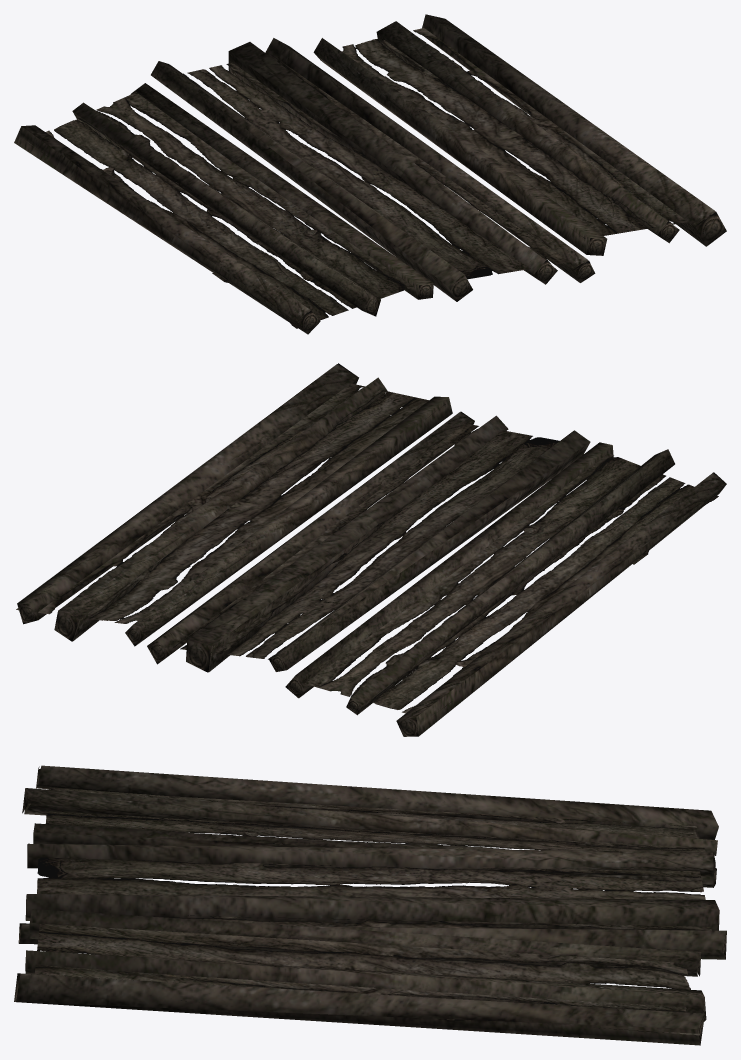
File: MEP_Wall_04.fbx
3 renders of one model, top to bottom at view 1: azimuth 30°, elevation 25°; view 2: azimuth 150°, elevation 25°; view 3: azimuth 270°, elevation 25°, orthographic. The views are drawn at different scales.
Parts seen in each view (by area): view 1: MEP_Wall_04; view 2: MEP_Wall_04; view 3: MEP_Wall_04.
Boxes of the visible parts, bbox=[...] form: MEP_Wall_04: bbox=[14, 14, 726, 334]; MEP_Wall_04: bbox=[16, 363, 726, 736]; MEP_Wall_04: bbox=[14, 765, 726, 1045].
Size of the model in its own units: 4.51 by 0.6621 by 5.61.
